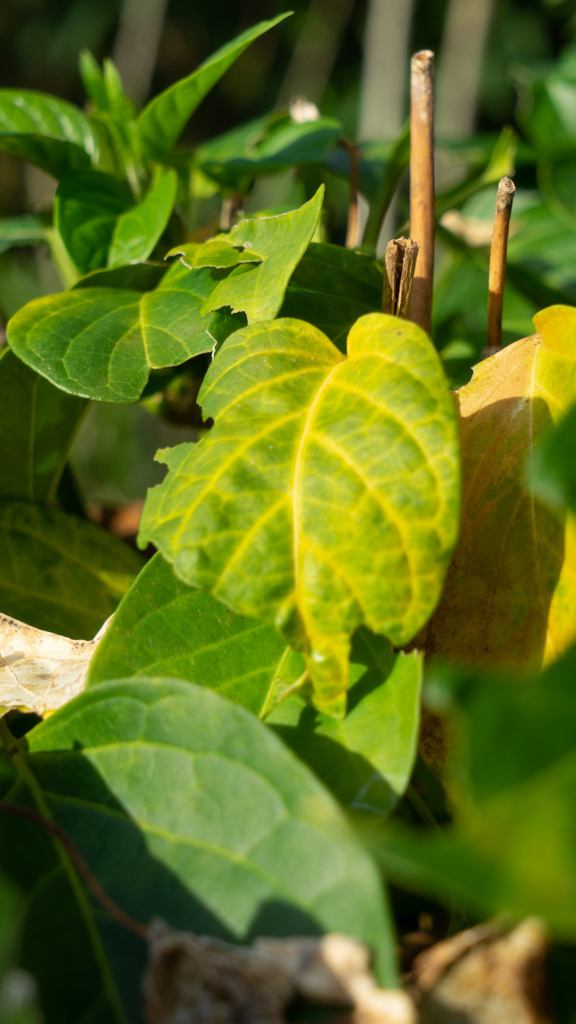Pepper yellow leaf: (129, 312, 451, 726), (441, 285, 570, 689)
